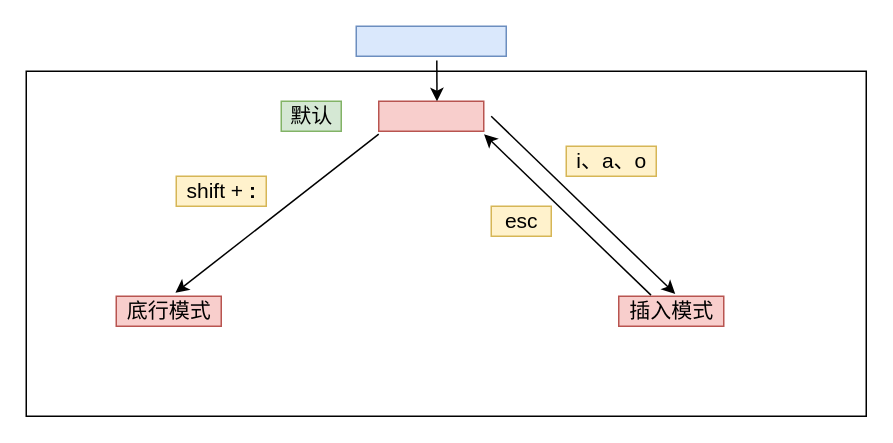
The diagram is 893 pixels wide and 443 high, and some of its shapes have lost their labels. The shapes that lost their labels are listed below. From the top down, each one's box as (x1, y1, x2, y2) in pixels, then its label:
(355, 25, 506, 56): 多模式编辑器
(377, 100, 484, 131): 命令模式
